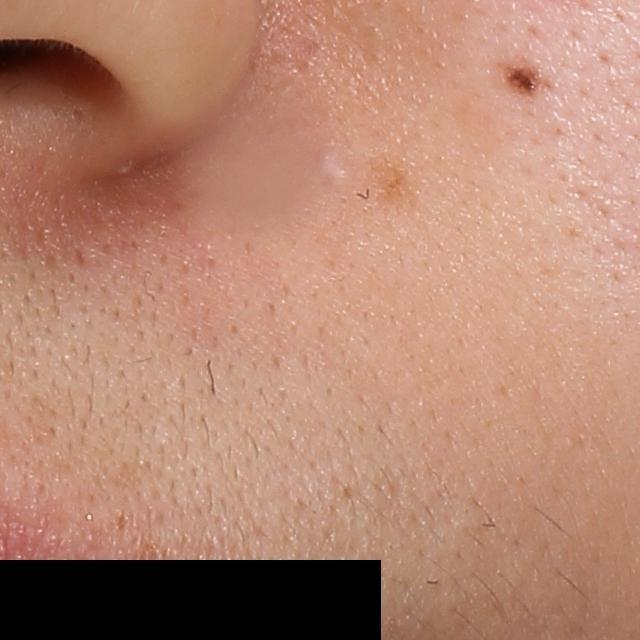nevus: (492, 57, 552, 96)
